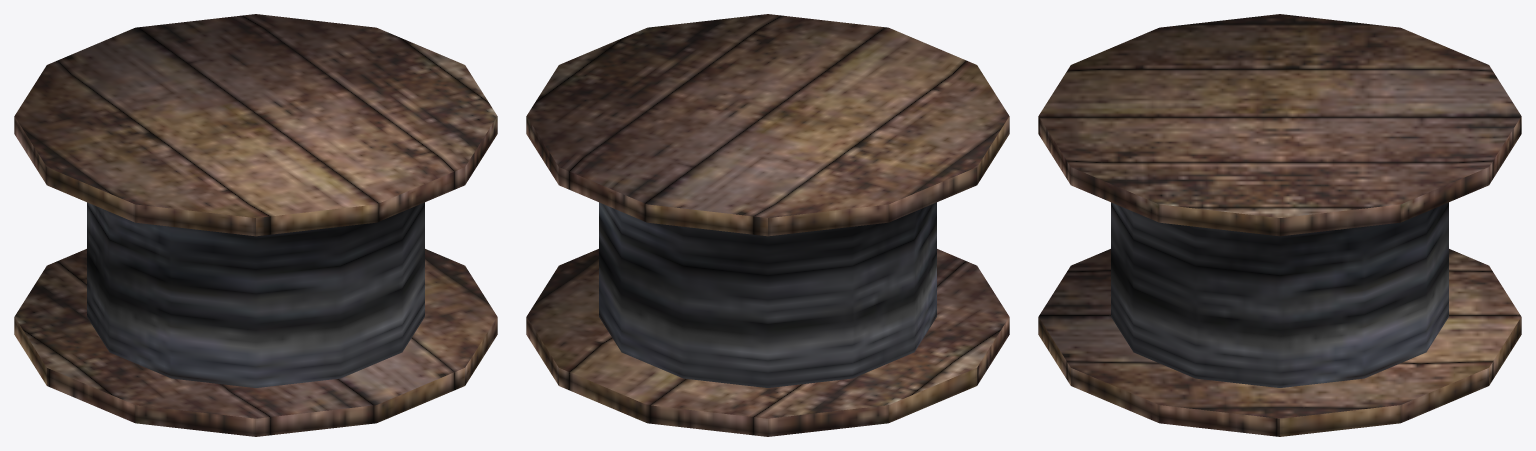
The model's file is spool.glb.
3 views of the same model, side by side, from view 1: azimuth 30°, elevation 25°; view 2: azimuth 150°, elevation 25°; view 3: azimuth 270°, elevation 25° (orthographic).
Parts seen in each view (by area): view 1: Spool; view 2: Spool; view 3: Spool.
Part boxes in pixels (left/top/right/bottom): Spool: left=14, top=14, right=497, bottom=436; Spool: left=526, top=14, right=1009, bottom=436; Spool: left=1038, top=14, right=1521, bottom=436.
Size of the model in its own units: 2 by 1 by 2.
1 material, 1 textured.
